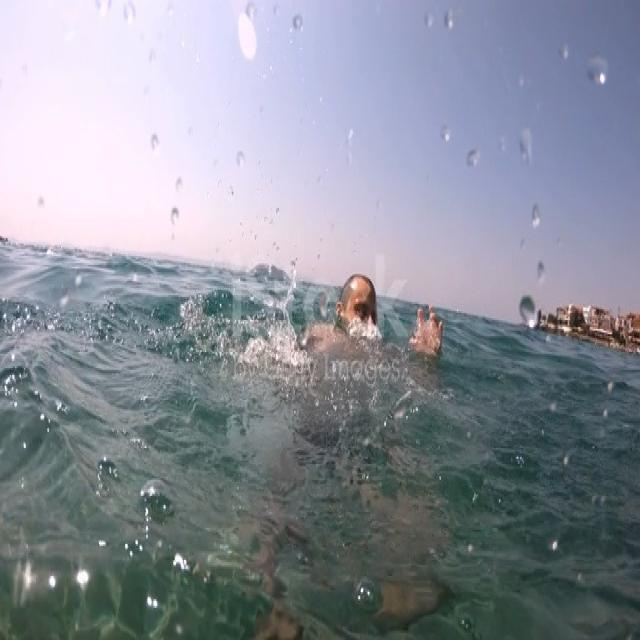Out of Water: (272, 262, 446, 370)
